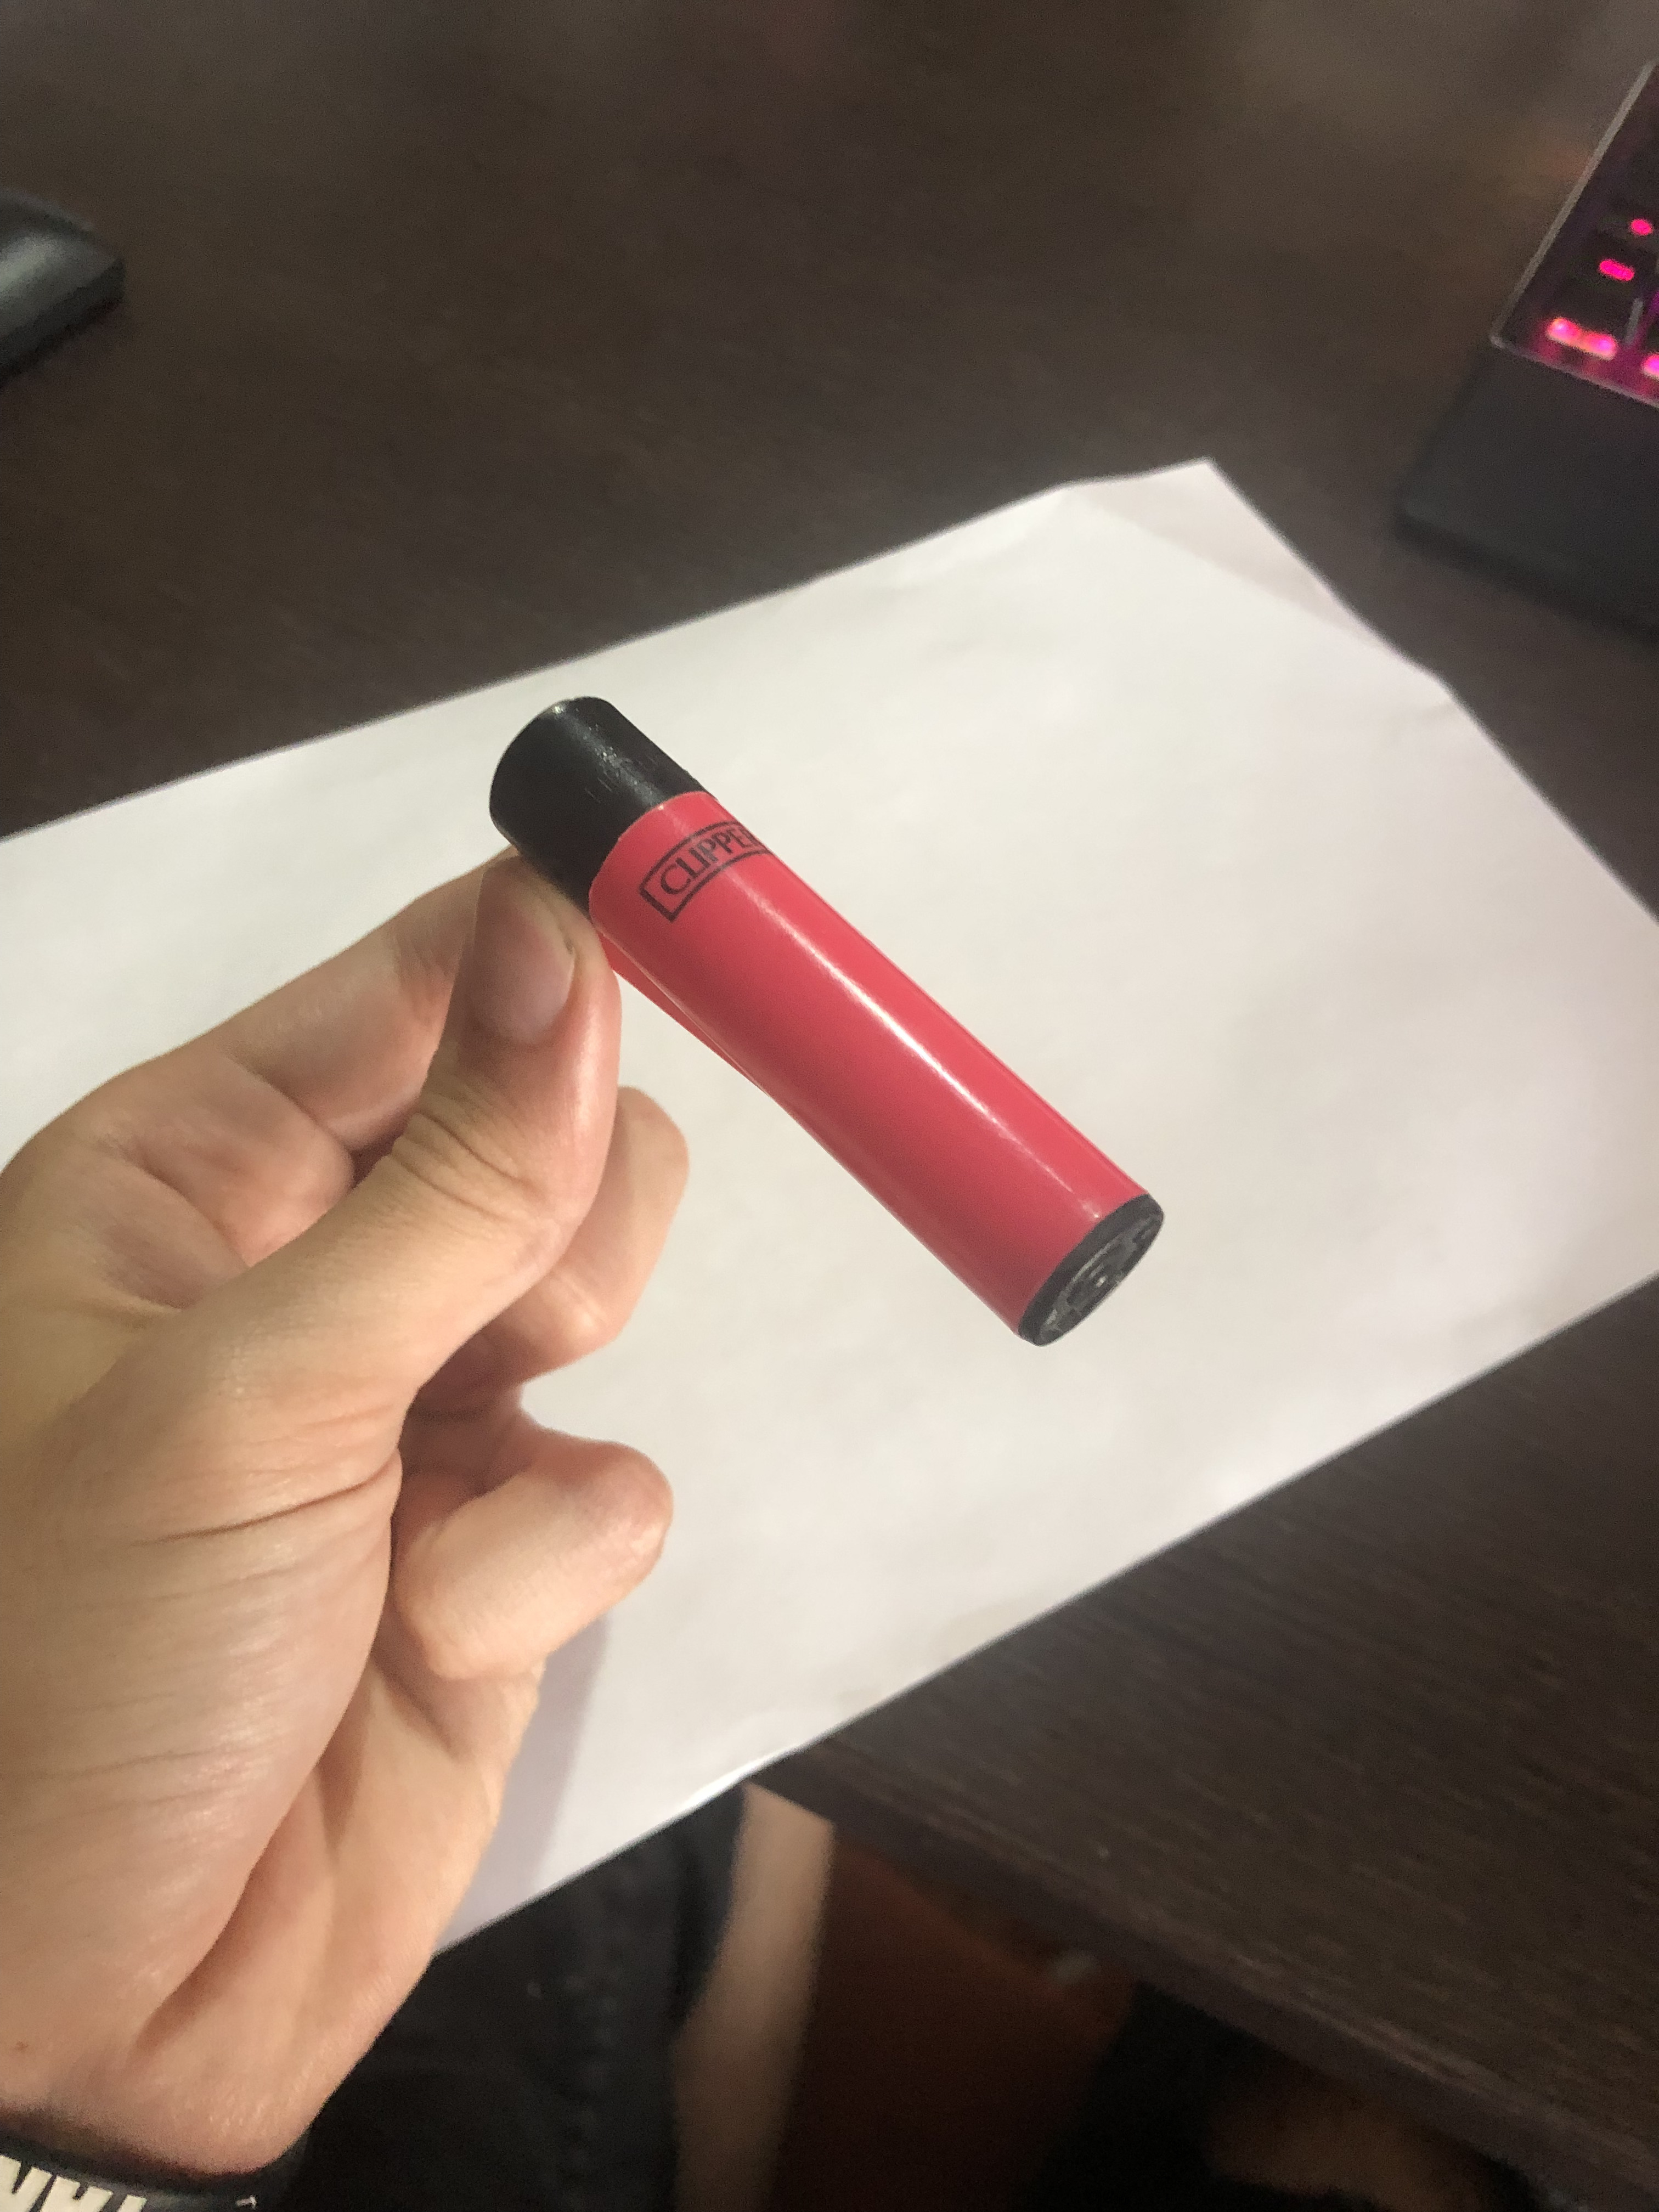Mechero: (484, 676, 1171, 1352)
